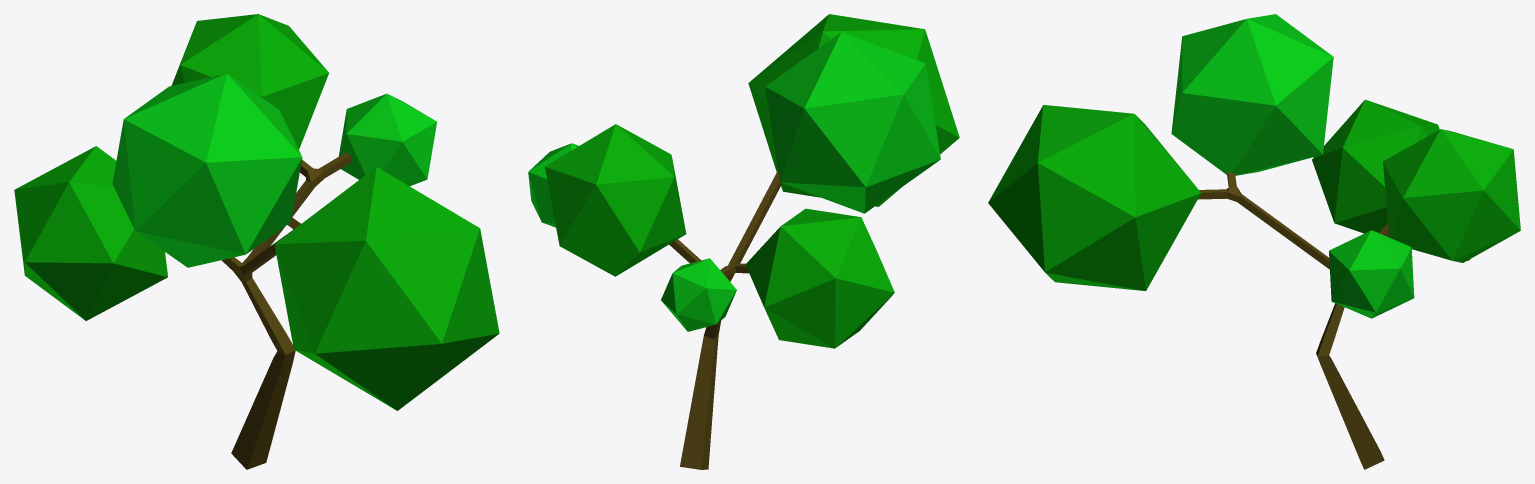
File: tree_2.fbx
The picture shows the model from 3 angles, left to right: view 1: azimuth 30°, elevation 25°; view 2: azimuth 150°, elevation 25°; view 3: azimuth 270°, elevation 25°; orthographic projection. The views are drawn at different scales.
Visible parts, largest first — view 1: tree2; view 2: tree2; view 3: tree2.
Part boxes in pixels (x1=…): tree2: x1=14, y1=14, x2=499, y2=469; tree2: x1=528, y1=14, x2=959, y2=469; tree2: x1=988, y1=14, x2=1520, y2=469.
Size of the model in its own units: 1779 by 1947 by 2317.
